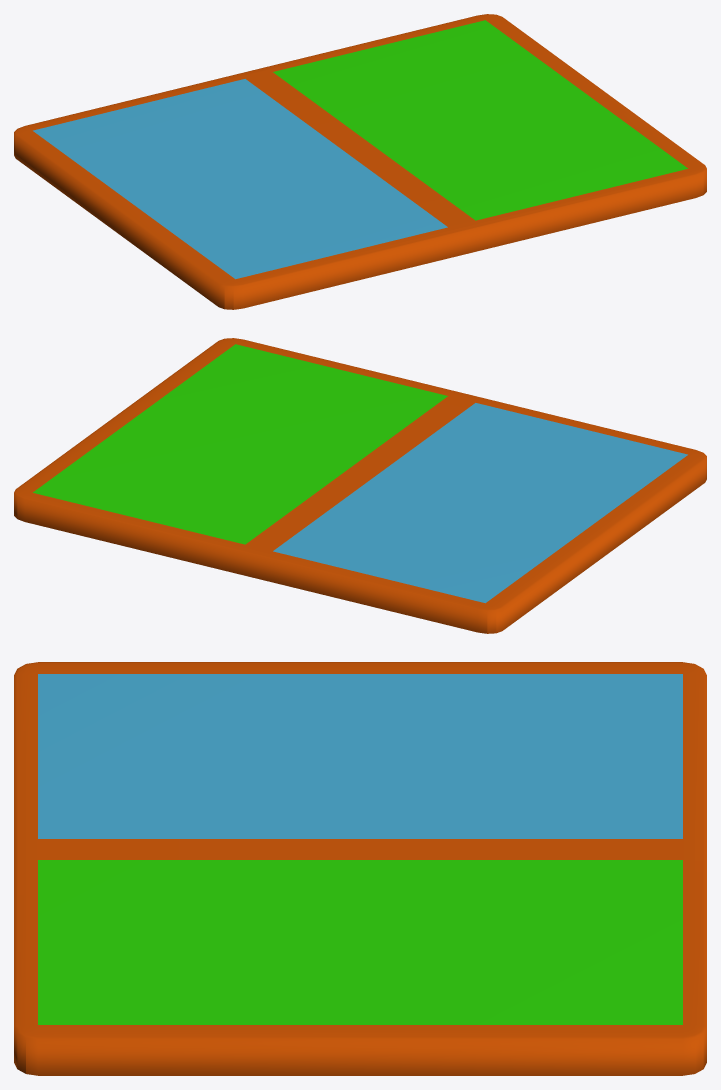
The model's file is Unity HD Render Pipeline (Metallic Standard).fbx.
3 views of the same model, one above another, from view 1: azimuth 30°, elevation 25°; view 2: azimuth 150°, elevation 25°; view 3: azimuth 270°, elevation 25° (orthographic). The views are drawn at different scales.
Parts seen in each view (by area): view 1: Cube (×3); view 2: Cube (×3); view 3: Cube (×3).
Part boxes in pixels (x1,y1,x2,y2): Cube (×3): (14,14,706,309); Cube (×3): (14,338,706,633); Cube (×3): (14,662,706,1075).
Size of the model in its own units: 2.58 by 0.12 by 2.
